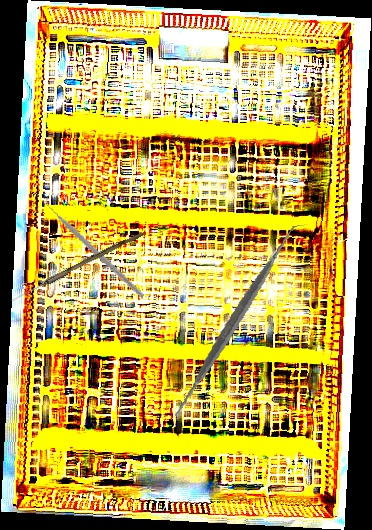Chopper: (30, 191, 161, 300)
Spatula Surgical: (137, 223, 333, 419)
Surgical Spoon: (10, 228, 145, 305)
